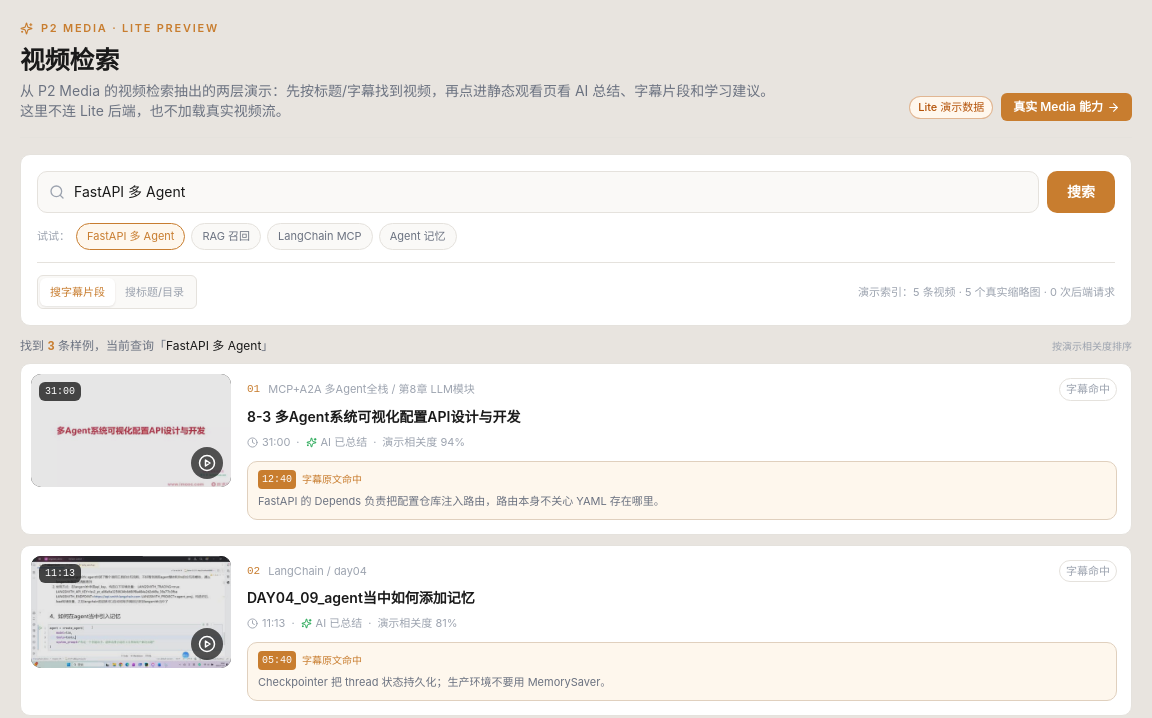
Test: Lite 视频检索演示页 › 从检索结果进入静态观看页并展示学习建议
This screenshot has width=1152, height=718.
Expected: the heading "视频检索" is shown, [20,44,119,74]
Click the heading "8-3 多Agent系统可视化配置API设计与开发" at (384,416), box [247,408,520,425]
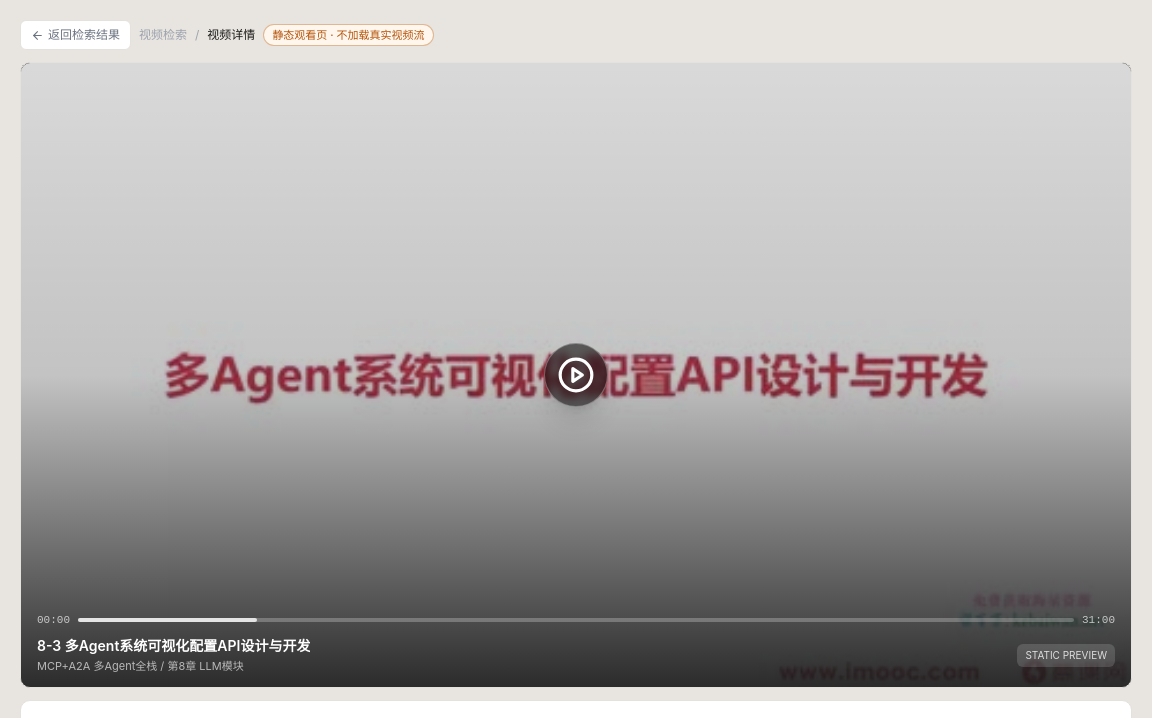
Now the button "返回检索结果" is shown, box [20,20,131,50]
Now the text "STATIC PREVIEW" is shown, box [1017,644,1115,667]
